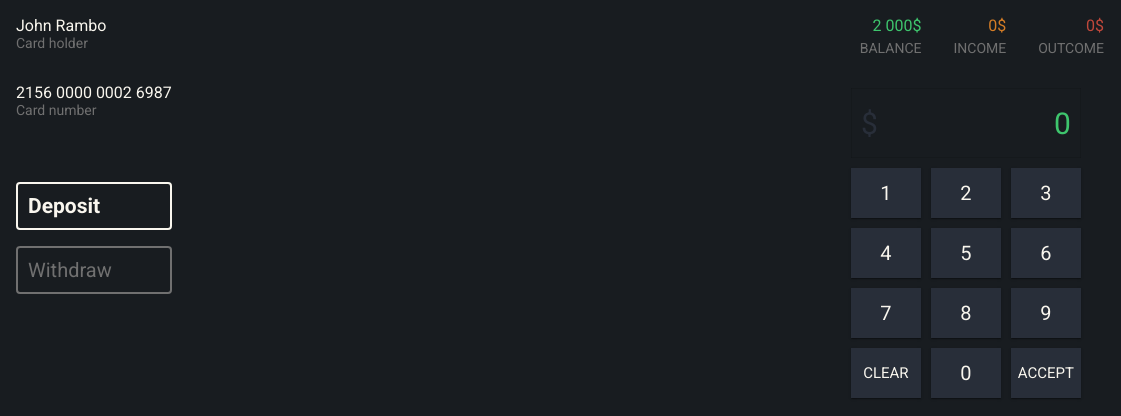
Test: Simple tests › deposit money
The width and height of the screenshot is (1121, 416).
Expected: the button with test id "atm-button-0" is shown, [931,348,1001,398]
Expected: the button with test id "atm-button-accept" is shown, [1011,348,1081,398]
Click the button with test id "atm-button-2" at (966, 193), box [931,168,1001,218]
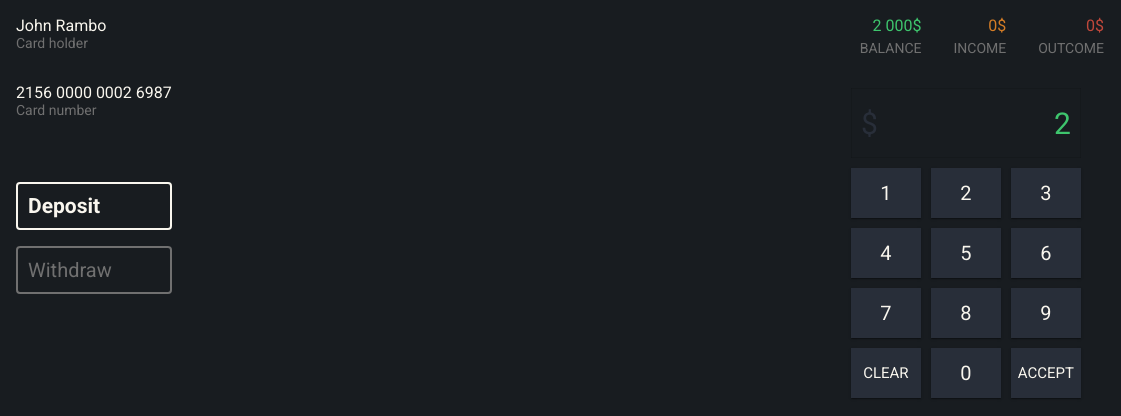
Click the button with test id "atm-button-0" at (966, 373), box [931,348,1001,398]
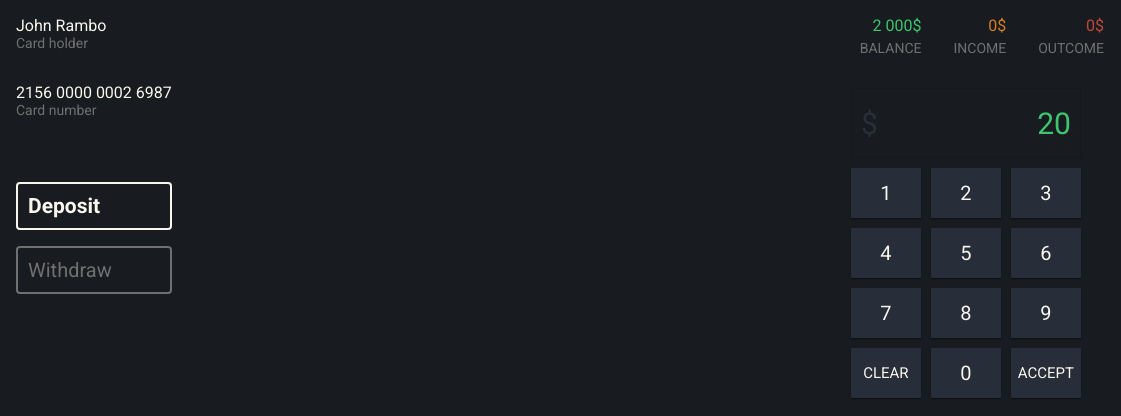
Click the button with test id "atm-button-0" at (966, 373), box [931,348,1001,398]
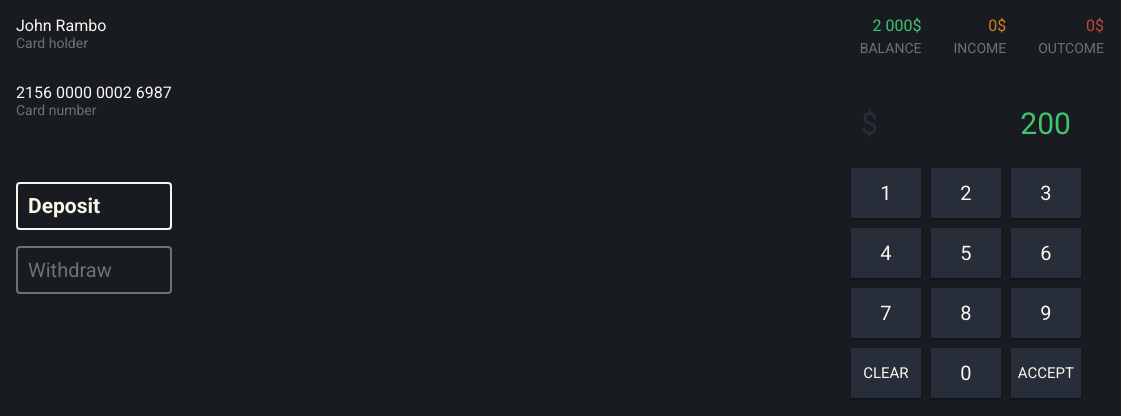
Click the button with test id "atm-button-0" at (966, 373), box [931,348,1001,398]
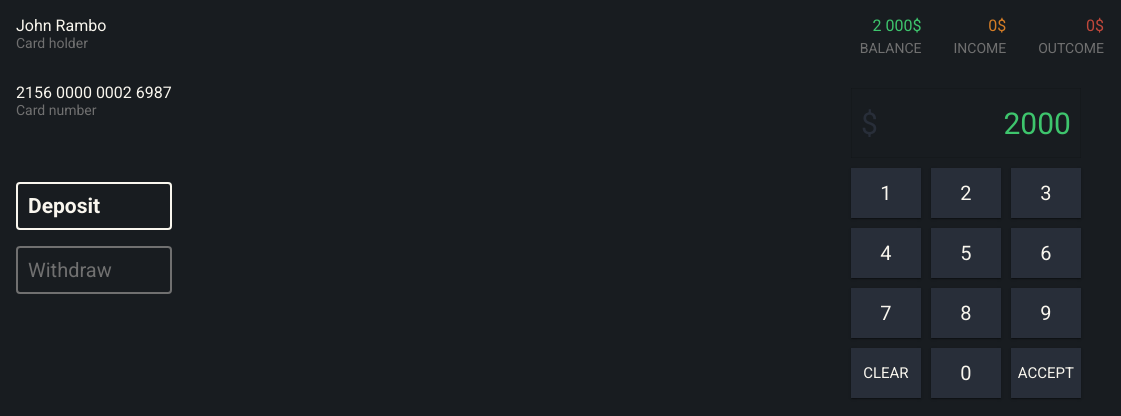
Result: the text with test id "atm-screen" reads "2000" at [1003,106,1071,140]
Click the button with test id "atm-button-accept" at (1046, 373), box [1011,348,1081,398]
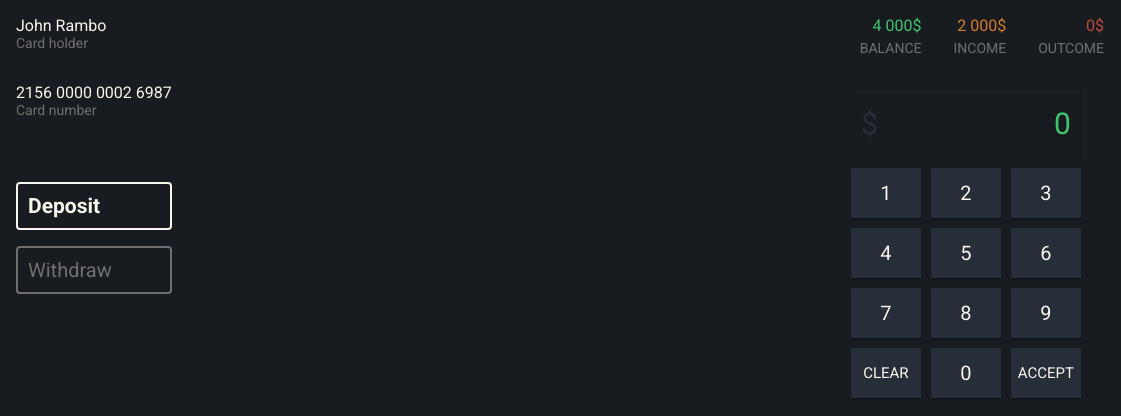
Result: the text with test id "account-label-balance" reads "4 000$" at [872,16,912,35]
Result: the text with test id "account-label-income" reads "2 000$" at [957,16,997,35]
